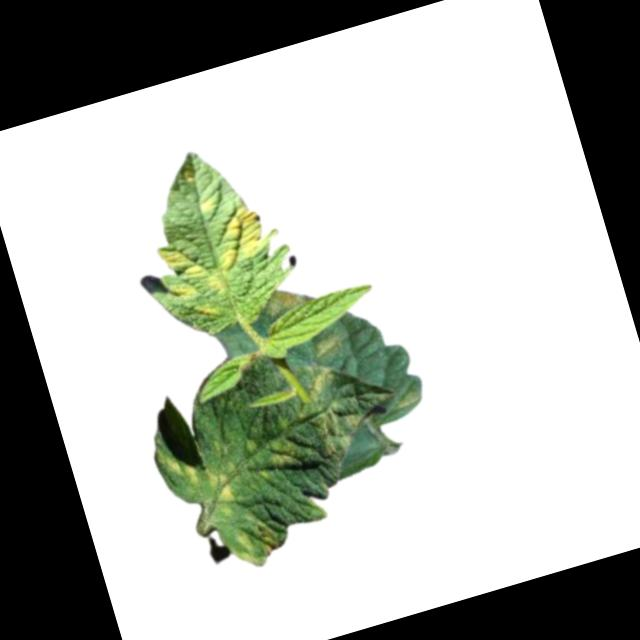Leaf_Mold: (153, 233, 227, 309), (208, 201, 273, 270), (225, 508, 286, 572), (310, 401, 375, 460), (257, 278, 313, 322), (199, 463, 239, 506), (262, 433, 302, 472), (302, 365, 340, 402), (306, 328, 347, 362), (393, 387, 426, 414), (194, 191, 219, 217), (196, 299, 221, 323), (179, 458, 200, 486)
